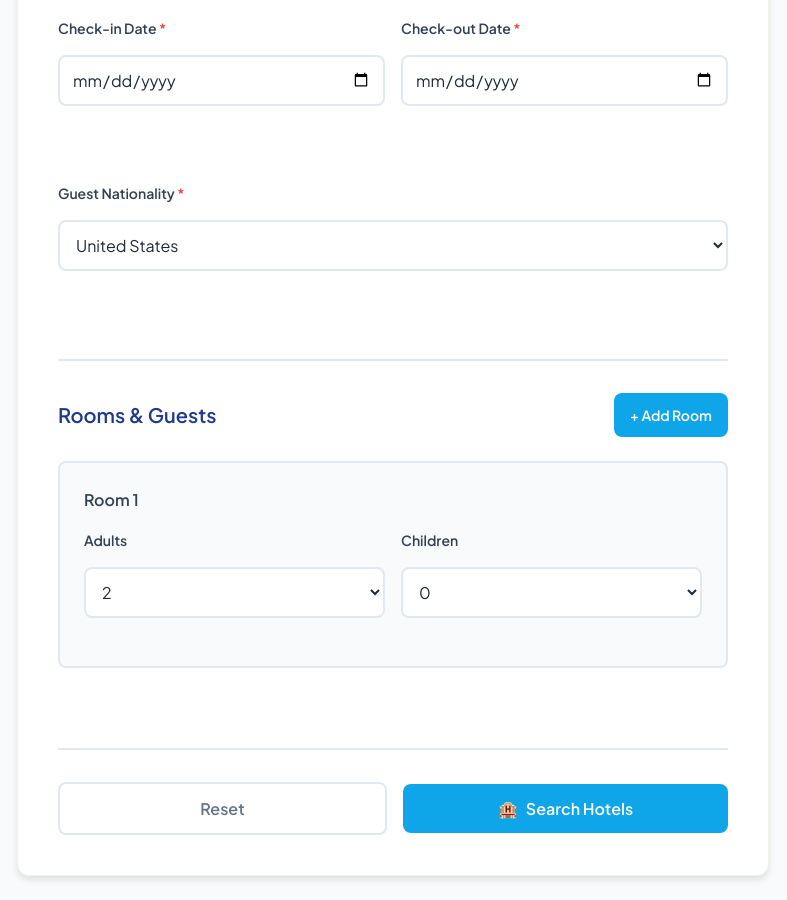
HotelSearchForm › Children Ages › should hide children age inputs when children count is 0
(page scrolled)
Note: Set to 2 children
Select "2" in the dropdown labelled "Children" at x=552, y=593, box [401, 567, 702, 618]
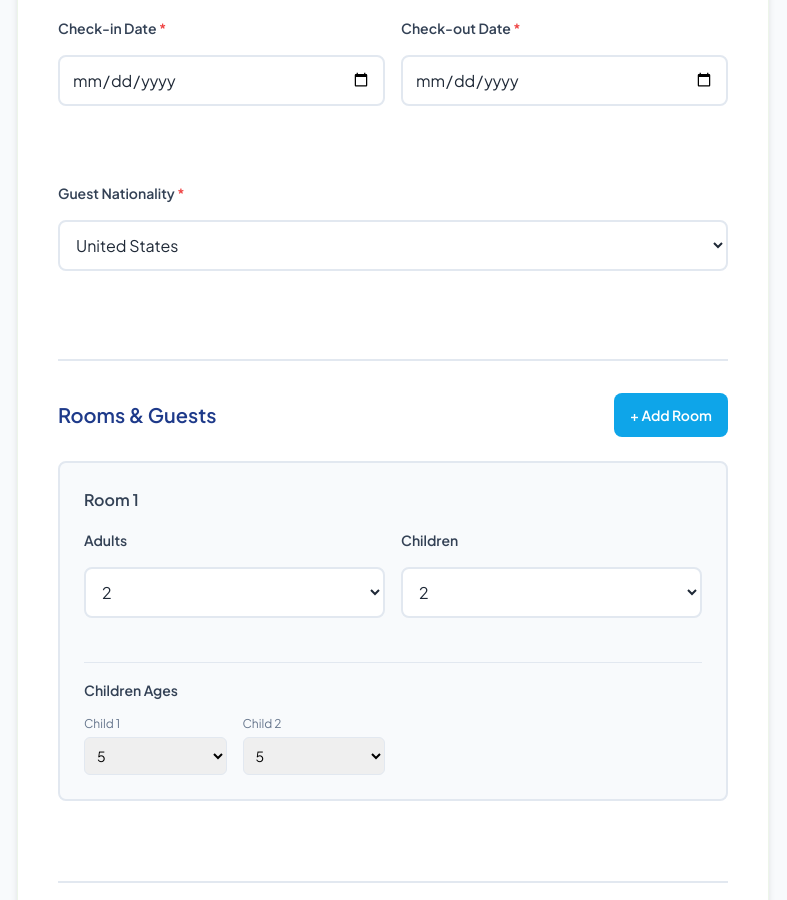
Check: the text "Children Ages" is shown, box [84, 681, 178, 699]
Note: Set back to 0 children
Select "0" in the dropdown labelled "Children" at x=552, y=593, box [401, 567, 702, 618]
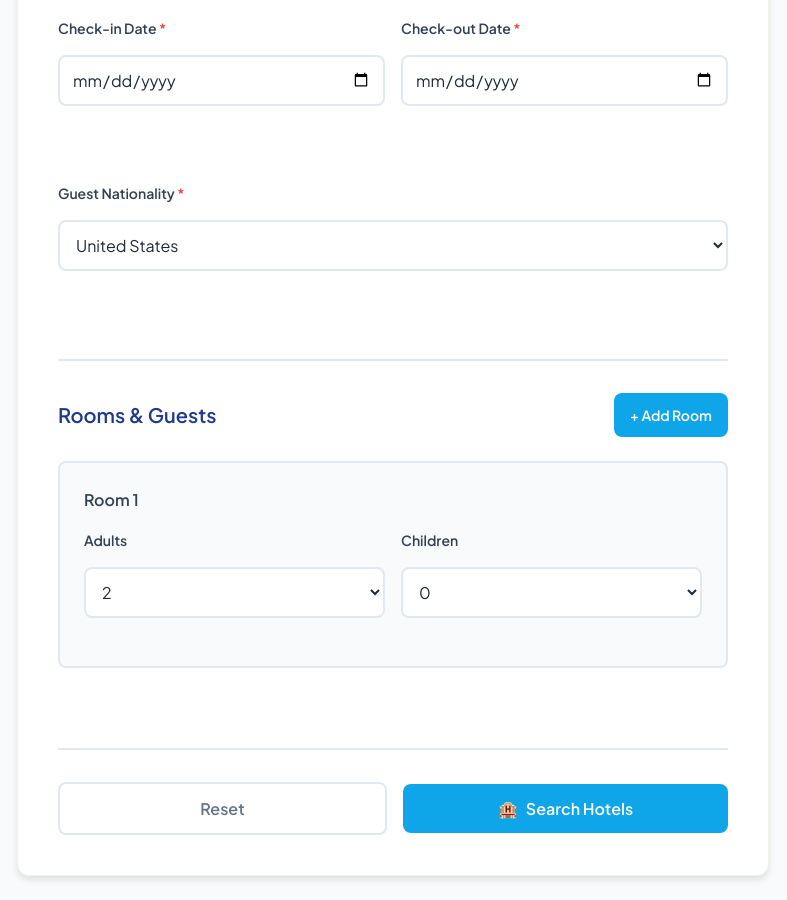
Check: the text "Children Ages" is gone
